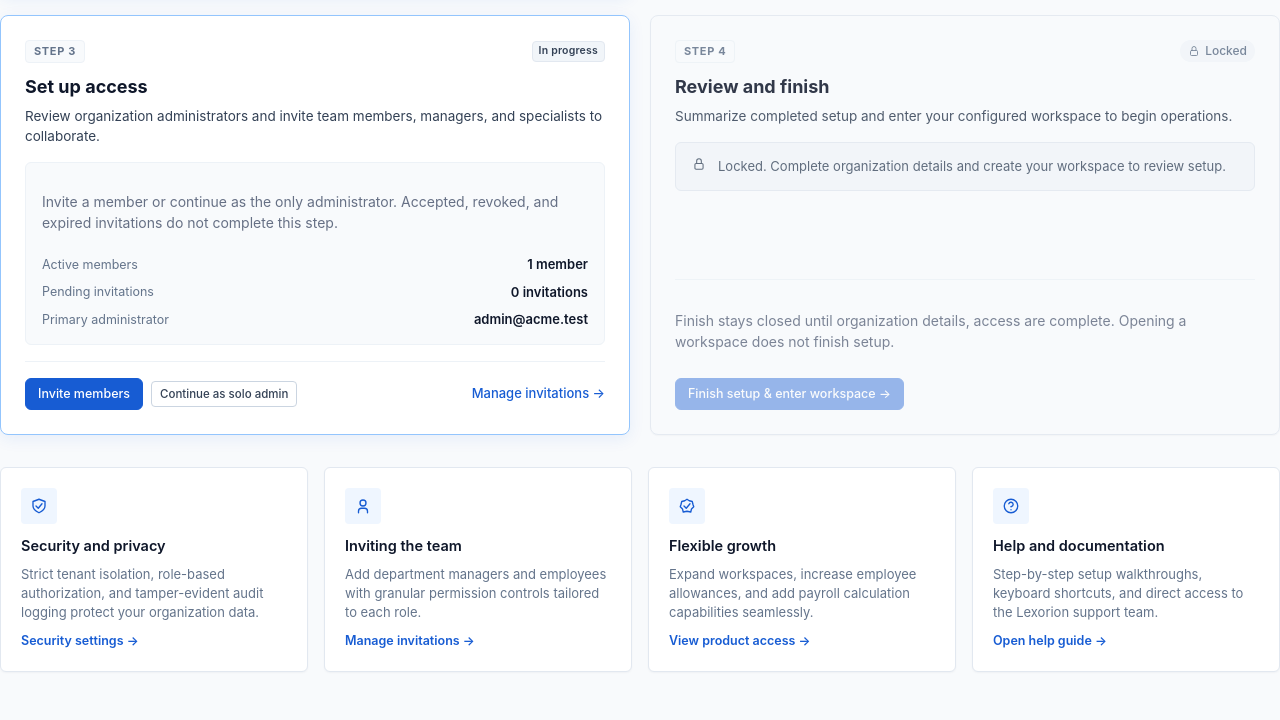
Test: saves solo continuation through the organization API
The image size is (1280, 720).
(page scrolled)
Click the button "Continue as solo admin" at (224,394), box [151,381,297,407]
(page scrolled)
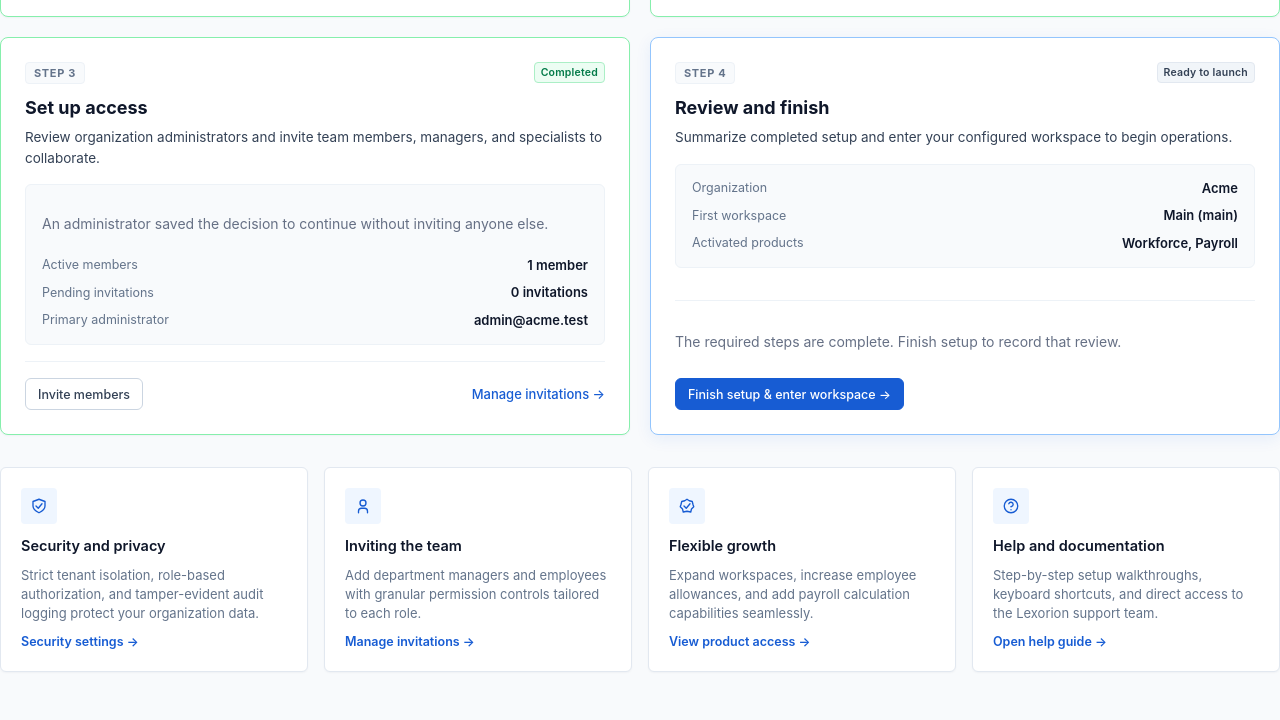
Now the text "saved the decision to continue" is shown, box [42,215,548,232]
